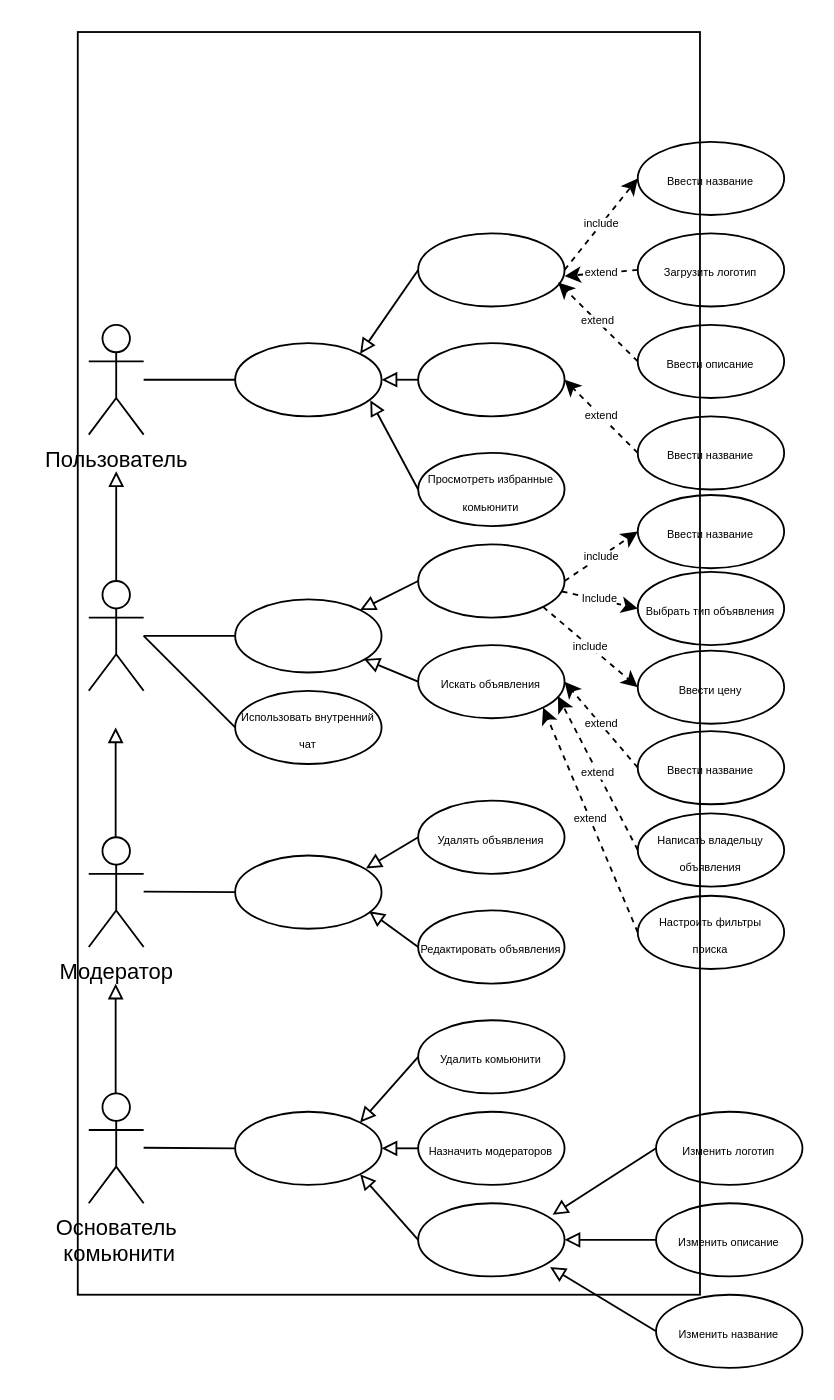
The diagram is 834 pixels wide and 1400 high, and some of its shapes have lost their labels. The centre of each missing label's shape, as x and y in pixels:
Выставить объявление: pixel 490 580
Изменить данные комьюнити: pixel 490 1238
Модерировать объявления: pixel 307 891
Найти комьюнити: pixel 490 378
Работать с объявлениями: pixel 307 635
Работать с системой комьюнити: pixel 307 378
Создать комьюнити: pixel 490 269
Управлять комьюнити: pixel 307 1147
Член комьюнити: pixel 115 635
